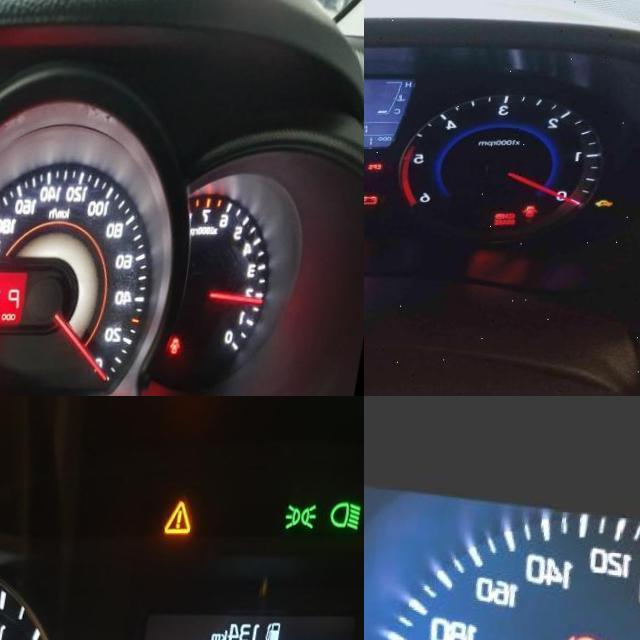Central Warning lamp: (168, 499, 200, 533)
Doors: (181, 336, 193, 352)
Low beam: (332, 498, 364, 530)
SideLamp: (288, 501, 323, 529)
